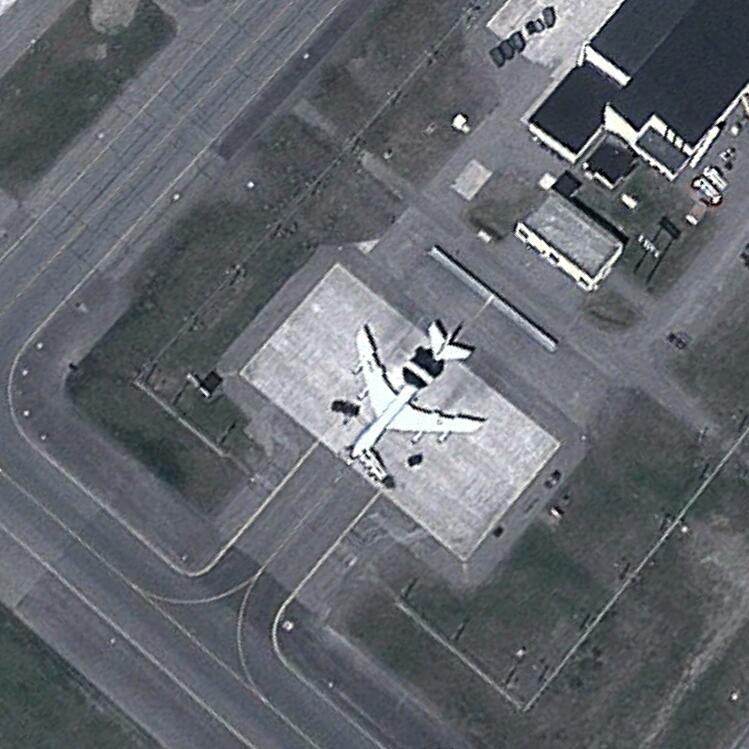A7: (346, 319, 487, 468)
